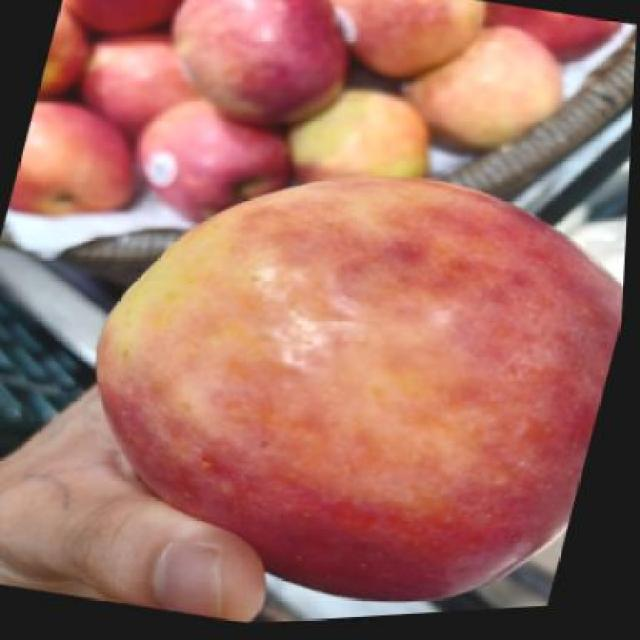Fresh Apple: (103, 184, 612, 608)
